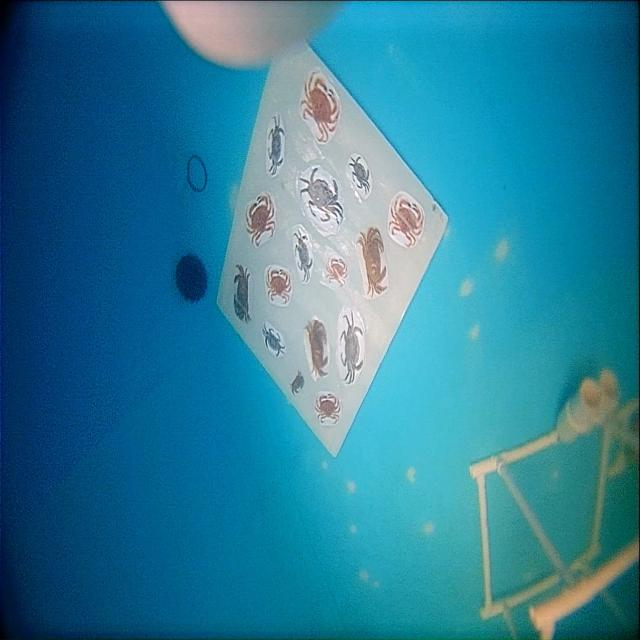GreenCrab: (300, 167, 343, 222), (339, 310, 363, 383), (269, 116, 284, 175), (349, 156, 370, 193)
